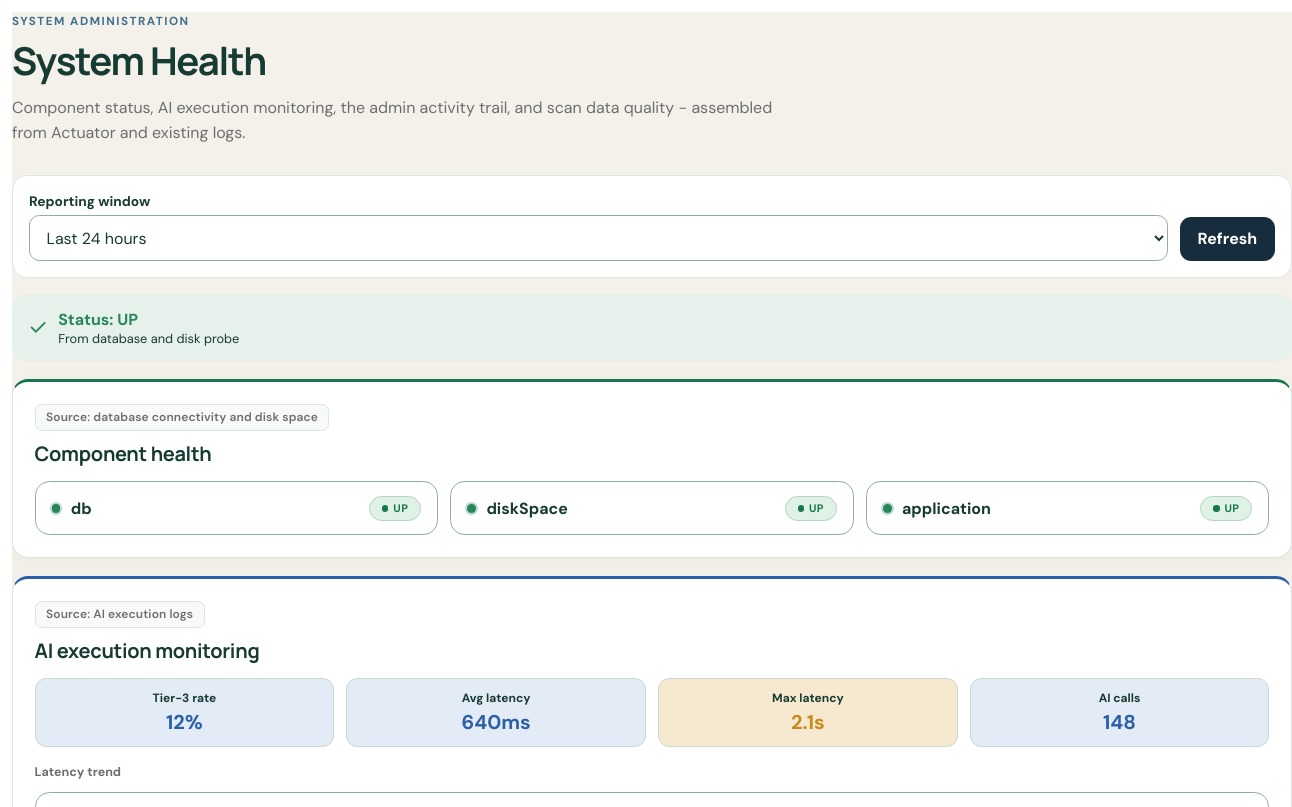
Test: SystemHealthPage › explains component UP badges and AI metric cards on hover
The image size is (1292, 807).
expect the heading "Component health" is shown: met, box [35,440,212,467]
expect the text "db" is shown: met, box [71,498,92,519]
Hover over the button with class "status-badge": (395, 508) [369,496,421,521]
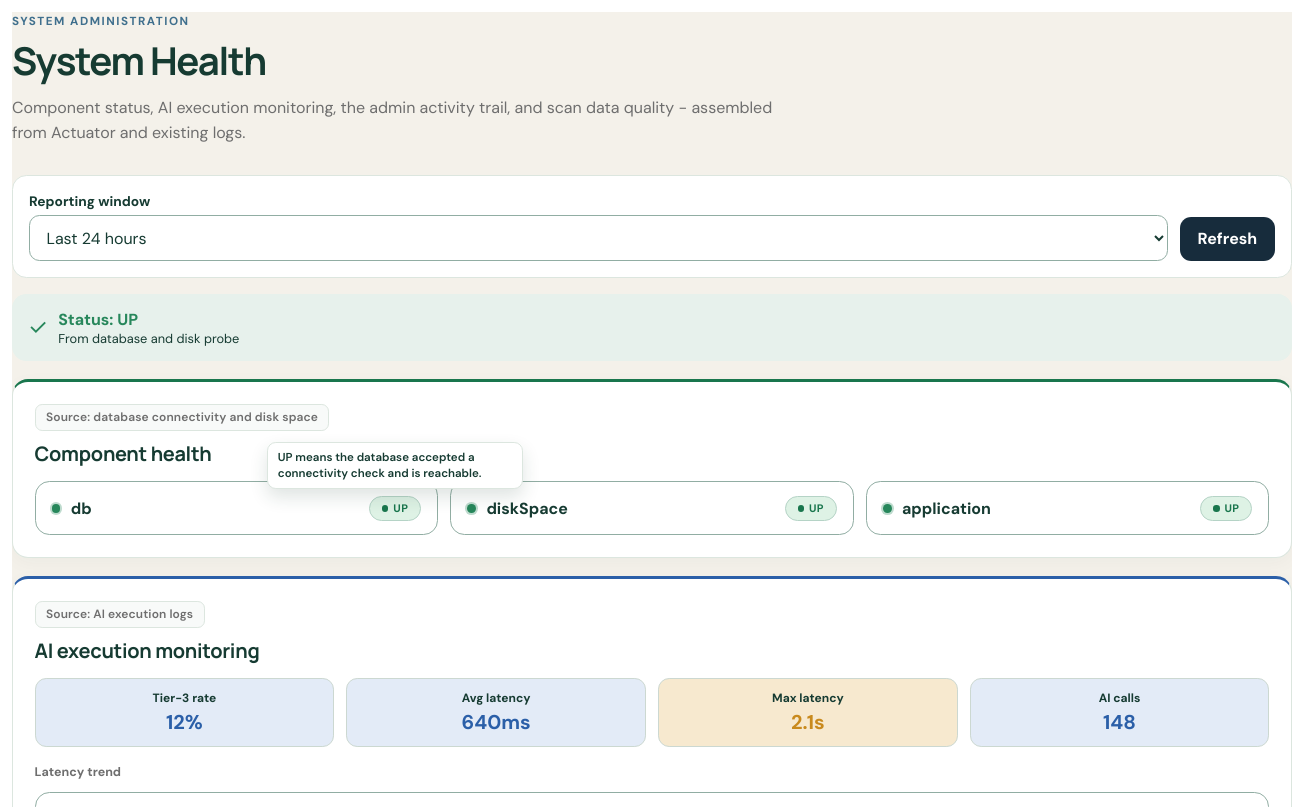
expect the tooltip reads "UP means the database accepted a connectivity check and is reachable.": met, box [278,450,482,481]
Move the pointer off the text with class "status-badge" in the row of "db", box [369,496,421,521]
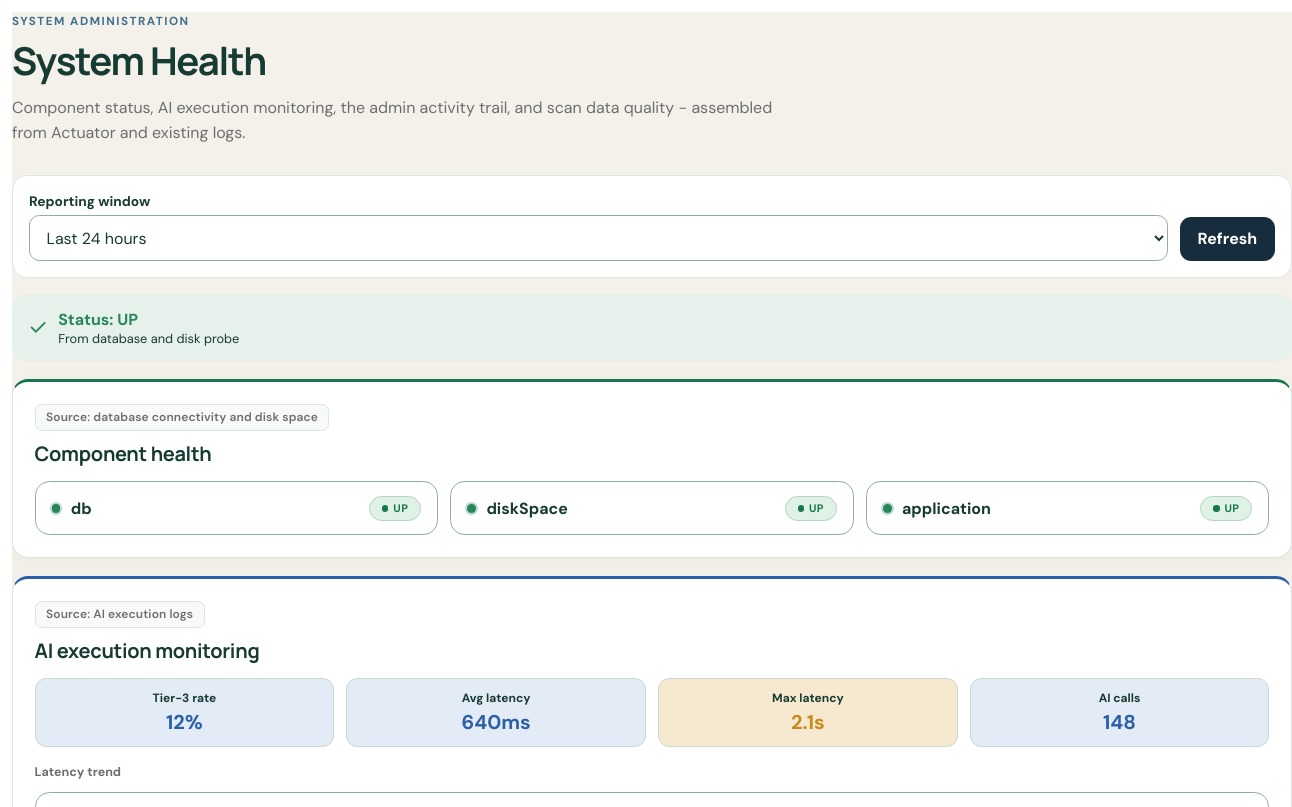
Hover over the text "Avg latency": (496, 698) [462,690,530,706]
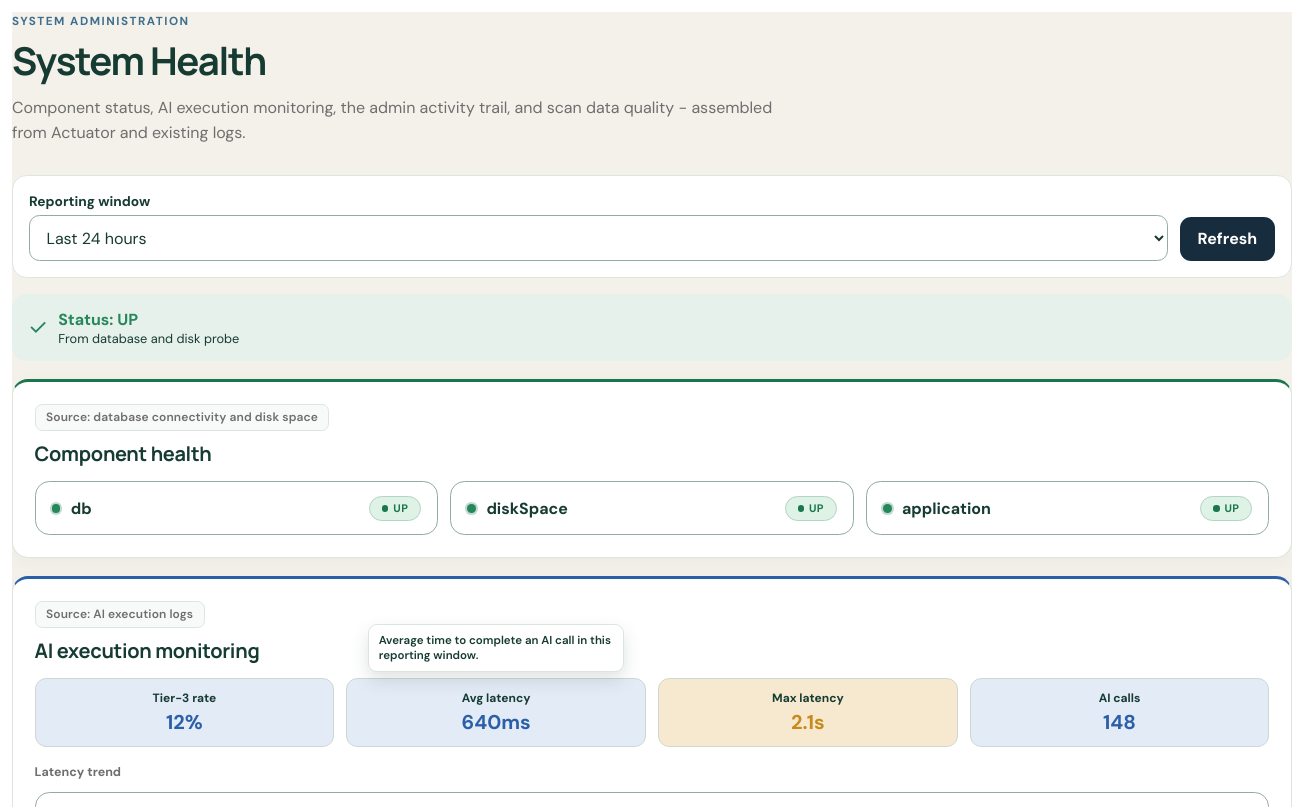
expect the tooltip reads "Average time to complete an AI call in this reporting window.": met, box [379,633,611,663]
